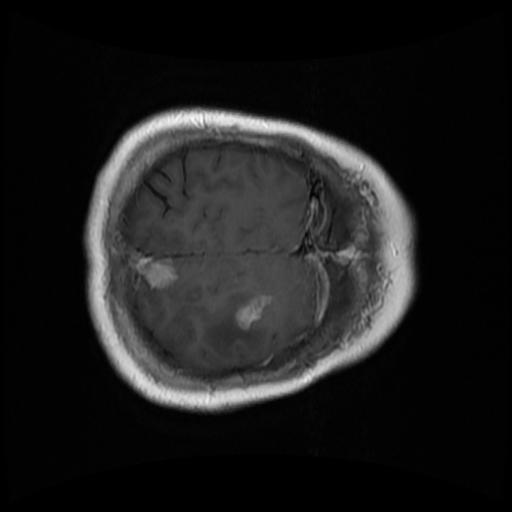glioma: (165, 289, 272, 363)
